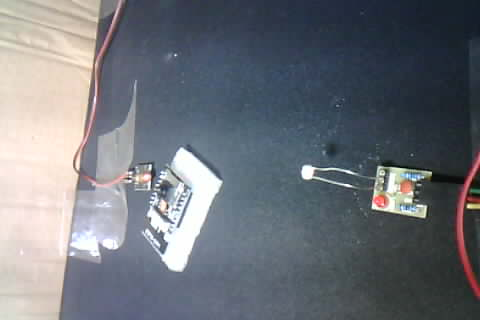esp32: (141, 148, 218, 267)
